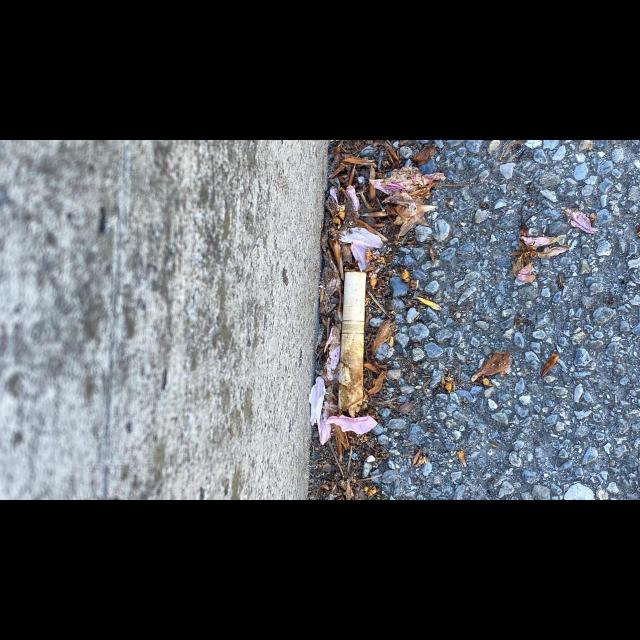cigarette: (335, 271, 367, 419)
